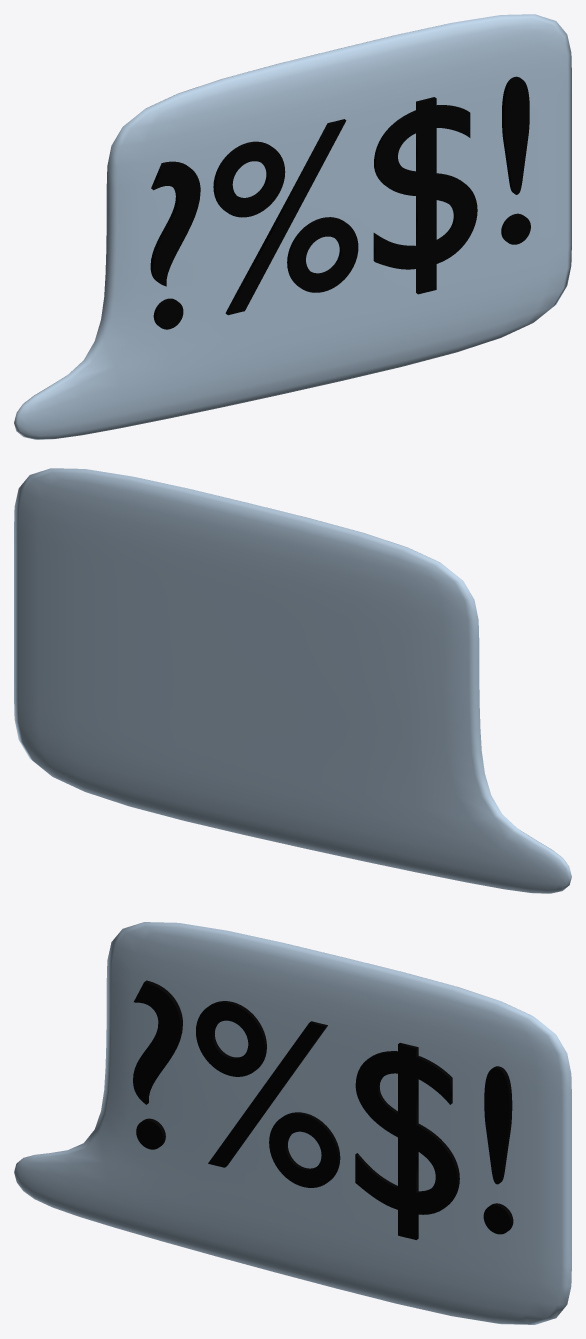
File: foshboland1.fbx
3 views of the same model, one above another, from view 1: azimuth 30°, elevation 25°; view 2: azimuth 150°, elevation 25°; view 3: azimuth 330°, elevation 25° (orthographic).
Visible parts, largest first — view 1: Cube, Text; view 2: Cube; view 3: Cube, Text.
Boxes of the visible parts, x1,y1,x2,y2 form: Cube: (14, 14, 571, 439); Text: (150, 76, 530, 329); Cube: (14, 468, 571, 893); Cube: (14, 922, 571, 1324); Text: (133, 980, 513, 1239).
Size of the model in its own units: 186 by 106 by 10.51.
